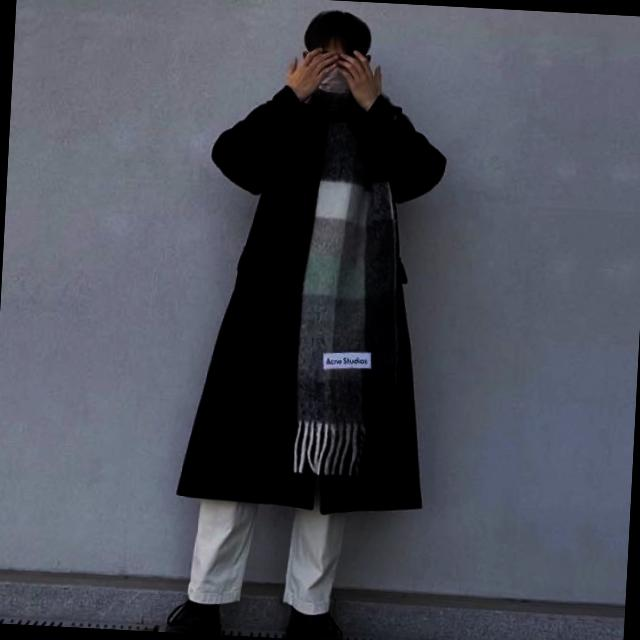coat: (178, 84, 450, 517)
cottonpants: (188, 474, 342, 616)
